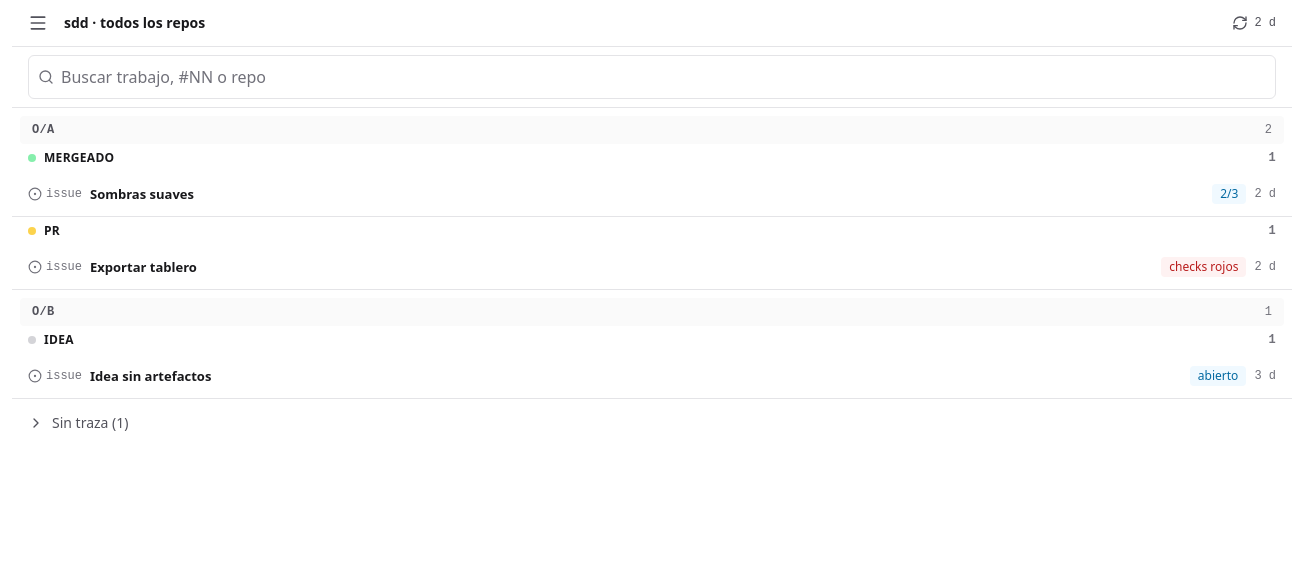
Test case: grupos en la lista de celular › parte la lista por repo con encabezados h3 y deja los sin traza en «Sin traza (N)» al final
The image size is (1304, 573).
Expected: the headings read "o/a", "o/b", in this order, x1=32 y1=122 x2=54 y2=138; x1=32 y1=304 x2=54 y2=320
Expected: the button "Grill viejo" is not shown
Click the button "Sin traza (1)".
click(78, 423)  # box x1=20 y1=407 x2=136 y2=439
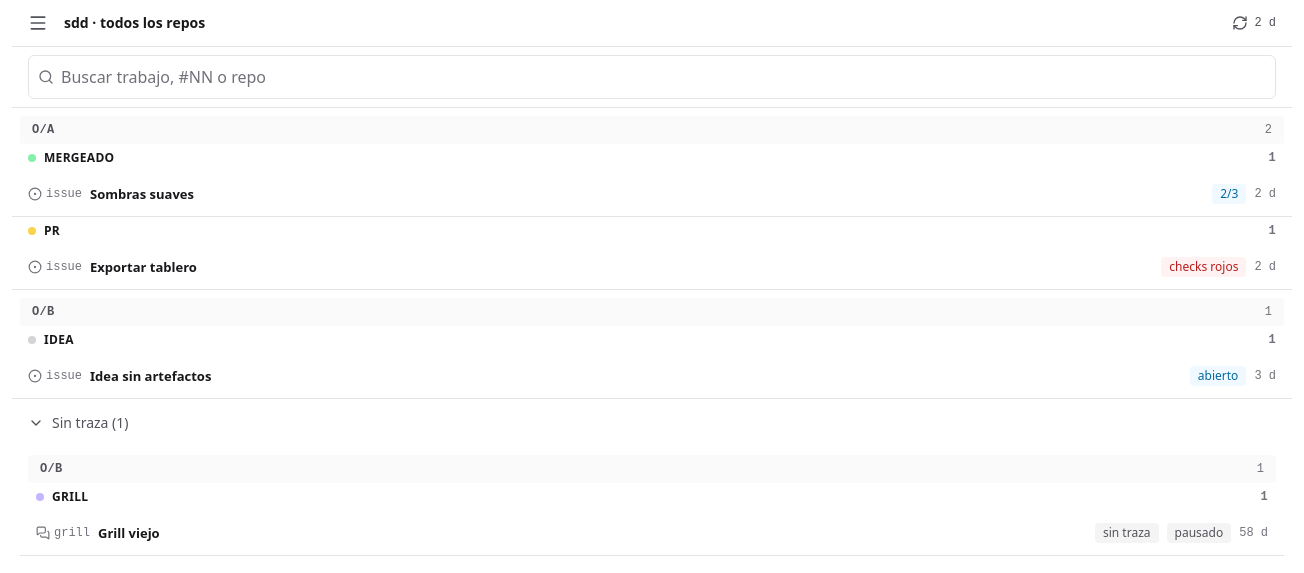
Result: the button "grill Grill viejo sin traza pausado 58 d" is shown at x1=20 y1=511 x2=1284 y2=555
